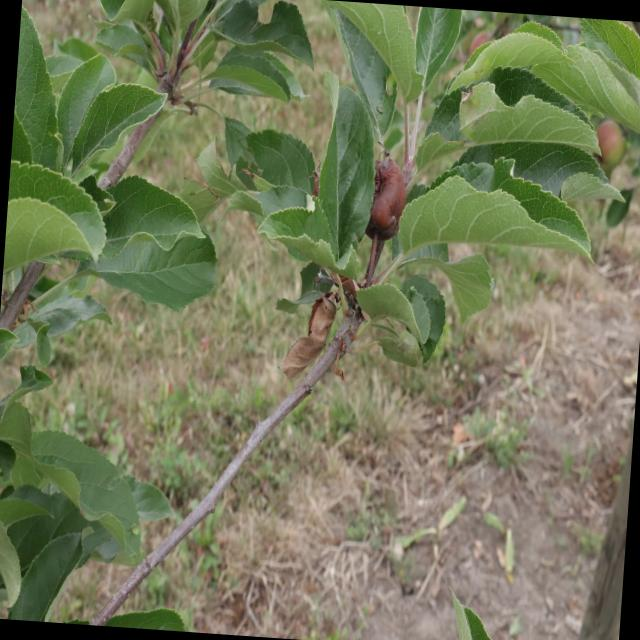-FireBlight-: (282, 276, 344, 382)
